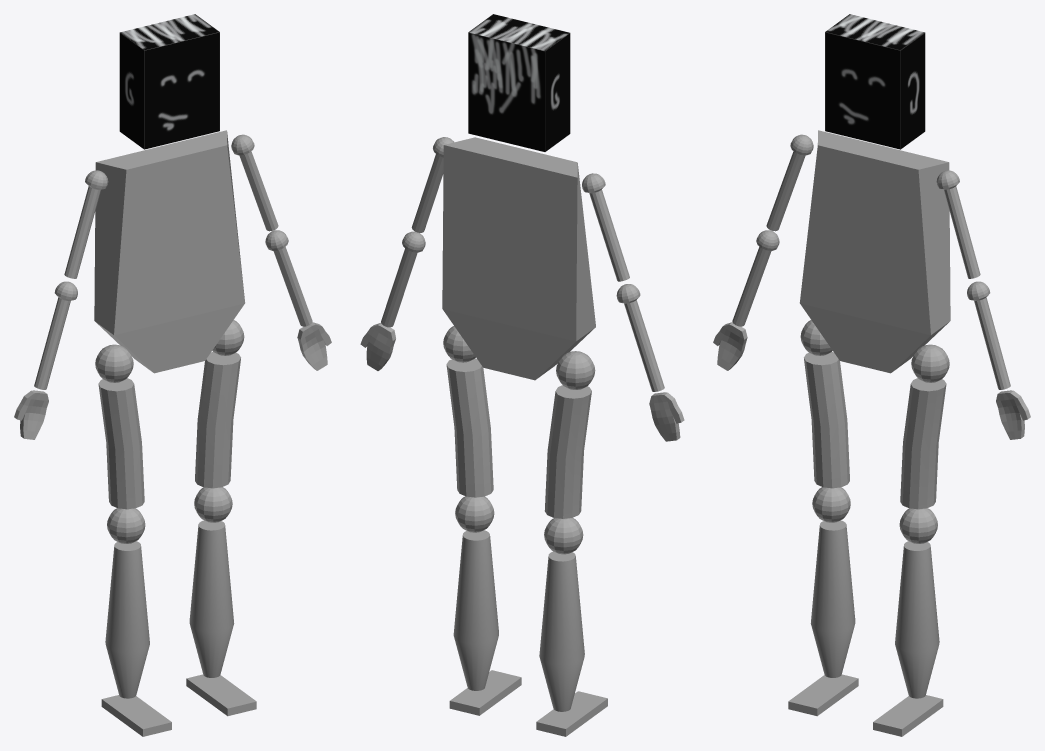
Rendered from GuyExportV1.fbx.
3 views of the same model, side by side, from view 1: azimuth 30°, elevation 25°; view 2: azimuth 150°, elevation 25°; view 3: azimuth 330°, elevation 25° (orthographic).
Parts seen in each view (by area): view 1: core, head, l_lower_leg, r_lower_leg, l_thigh, r_thigh, r_foot, l_foot, r_upper_arm, r_lower_arm, l_upper_arm, l_lower_arm (+6 smaller); view 2: core, head, l_lower_leg, r_lower_leg, l_thigh, r_thigh, r_upper_arm, r_foot, r_lower_arm, l_foot, l_lower_arm, l_upper_arm (+6 smaller); view 3: core, head, r_lower_leg, l_lower_leg, r_thigh, l_thigh, l_foot, r_foot, l_upper_arm, l_lower_arm, r_upper_arm, r_lower_arm (+6 smaller).
Boxes of the visible parts, left/top/right/bottom form: core: left=94, top=130, right=245, bottom=373; head: left=119, top=14, right=219, bottom=149; l_lower_leg: left=189, top=520, right=234, bottom=677; r_lower_leg: left=105, top=541, right=149, bottom=698; l_thigh: left=195, top=352, right=240, bottom=488; r_thigh: left=98, top=378, right=144, bottom=509; r_foot: left=101, top=695, right=171, bottom=736; l_foot: left=186, top=674, right=256, bottom=716; r_upper_arm: left=64, top=170, right=108, bottom=278; r_lower_arm: left=34, top=281, right=77, bottom=389; l_upper_arm: left=231, top=134, right=278, bottom=231; l_lower_arm: left=265, top=230, right=312, bottom=326; core: left=442, top=137, right=595, bottom=380; head: left=468, top=14, right=570, bottom=151; l_lower_leg: left=453, top=530, right=498, bottom=690; r_lower_leg: left=539, top=551, right=584, bottom=711; l_thigh: left=446, top=358, right=493, bottom=497; r_thigh: left=544, top=385, right=591, bottom=518; r_upper_arm: left=582, top=173, right=629, bottom=281; r_foot: left=536, top=691, right=607, bottom=736; r_lower_arm: left=616, top=284, right=664, bottom=391; l_foot: left=449, top=670, right=521, bottom=715; l_lower_arm: left=381, top=231, right=425, bottom=327; l_upper_arm: left=411, top=137, right=453, bottom=232; core: left=799, top=130, right=950, bottom=373; head: left=825, top=14, right=925, bottom=149; r_lower_leg: left=810, top=520, right=855, bottom=677; l_lower_leg: left=895, top=541, right=939, bottom=698; r_thigh: left=804, top=352, right=849, bottom=488; l_thigh: left=900, top=378, right=946, bottom=509; l_foot: left=873, top=695, right=943, bottom=736; r_foot: left=788, top=674, right=858, bottom=716; l_upper_arm: left=936, top=170, right=980, bottom=278; l_lower_arm: left=967, top=281, right=1010, bottom=389; r_upper_arm: left=766, top=134, right=813, bottom=231; r_lower_arm: left=732, top=230, right=779, bottom=326.
Bounding box in the file's own units: 4.41 × 8.95 × 1.03.
2 materials, 1 textured.
